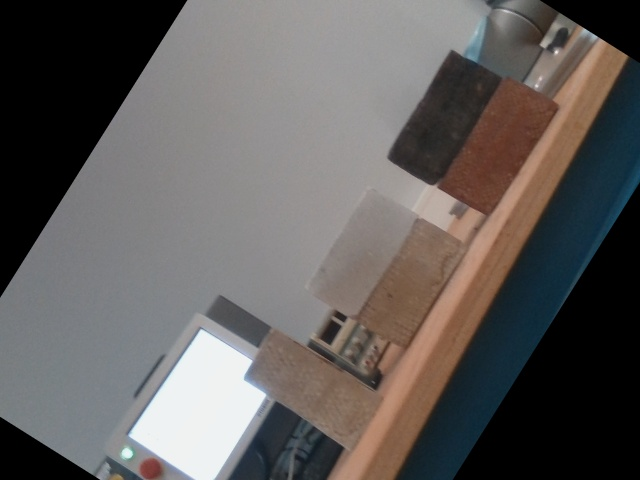brick: (240, 328, 385, 450), (440, 77, 556, 217), (388, 51, 500, 185), (306, 189, 417, 318), (359, 222, 462, 347)
